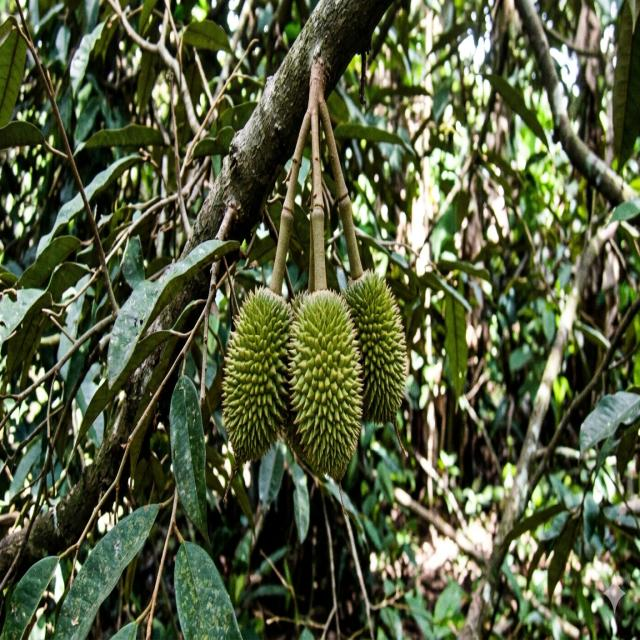immature: (284, 286, 364, 481), (220, 283, 296, 466), (341, 267, 408, 429)
